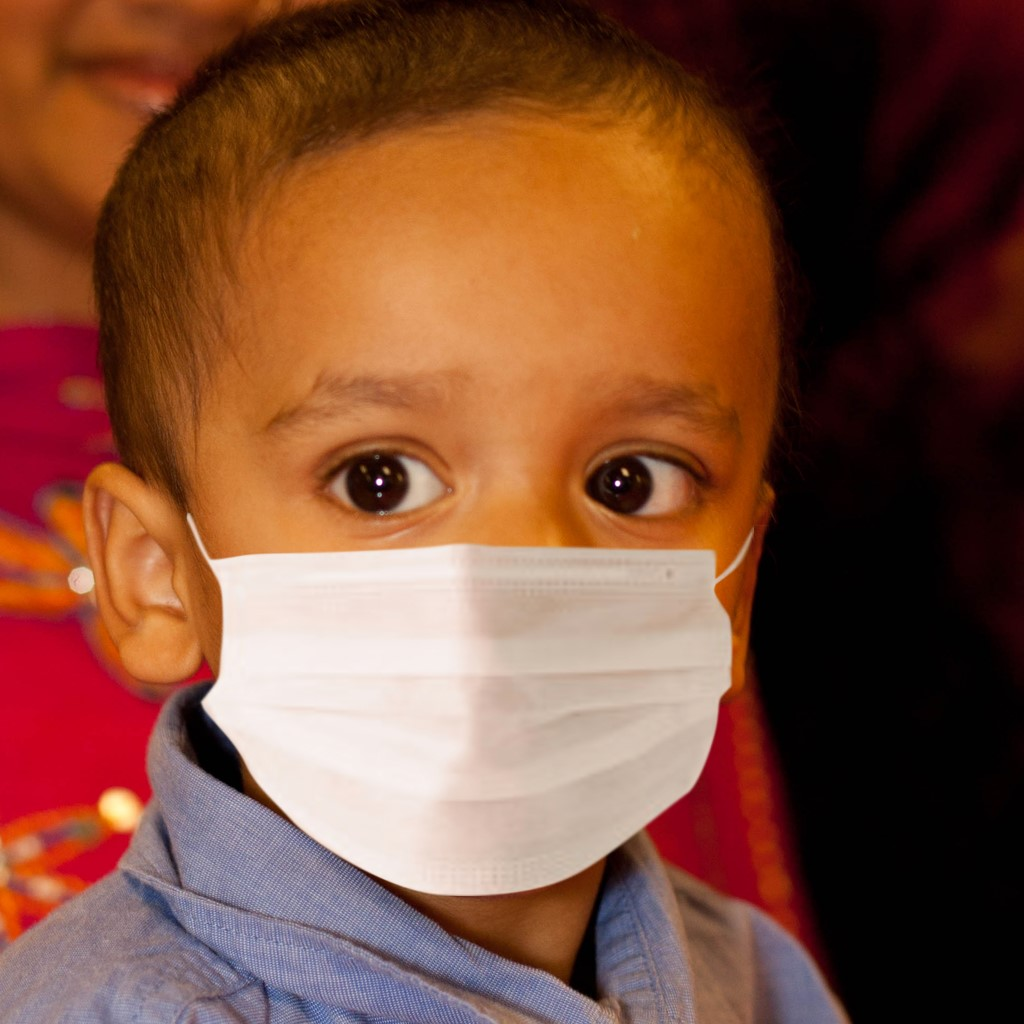con_mascara: (124, 76, 784, 880)
